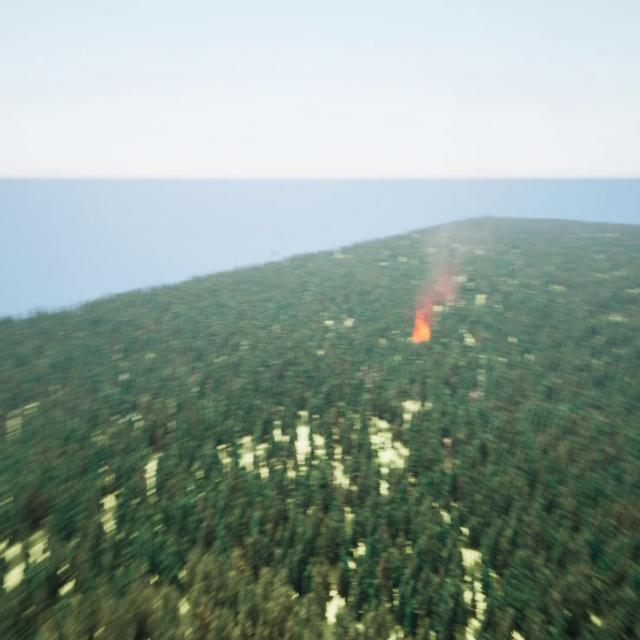fire: (411, 305, 430, 343)
smoke: (419, 259, 457, 316)
